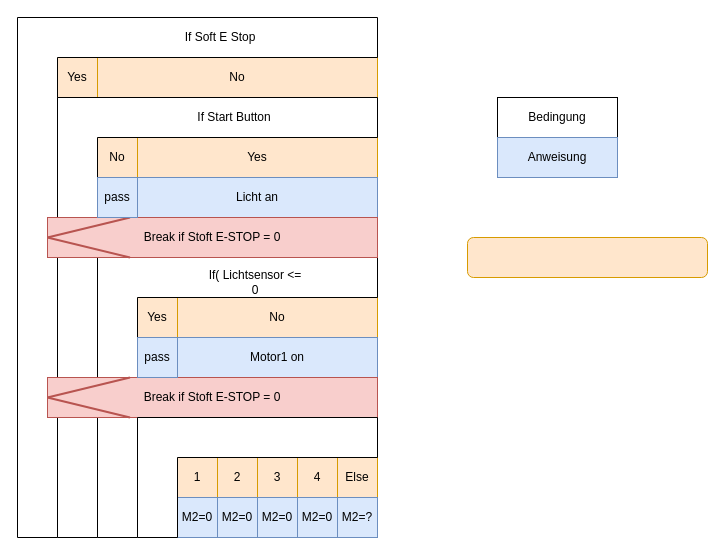
Some shapes in this 725 by 555 pixel diagram are drawn without their labels. Here are the shapes that lost their labels. From the top down, the box of each, then its label:
(466, 236, 708, 278): If Lichtsensor
(136, 416, 378, 538): If uint8_t = X
